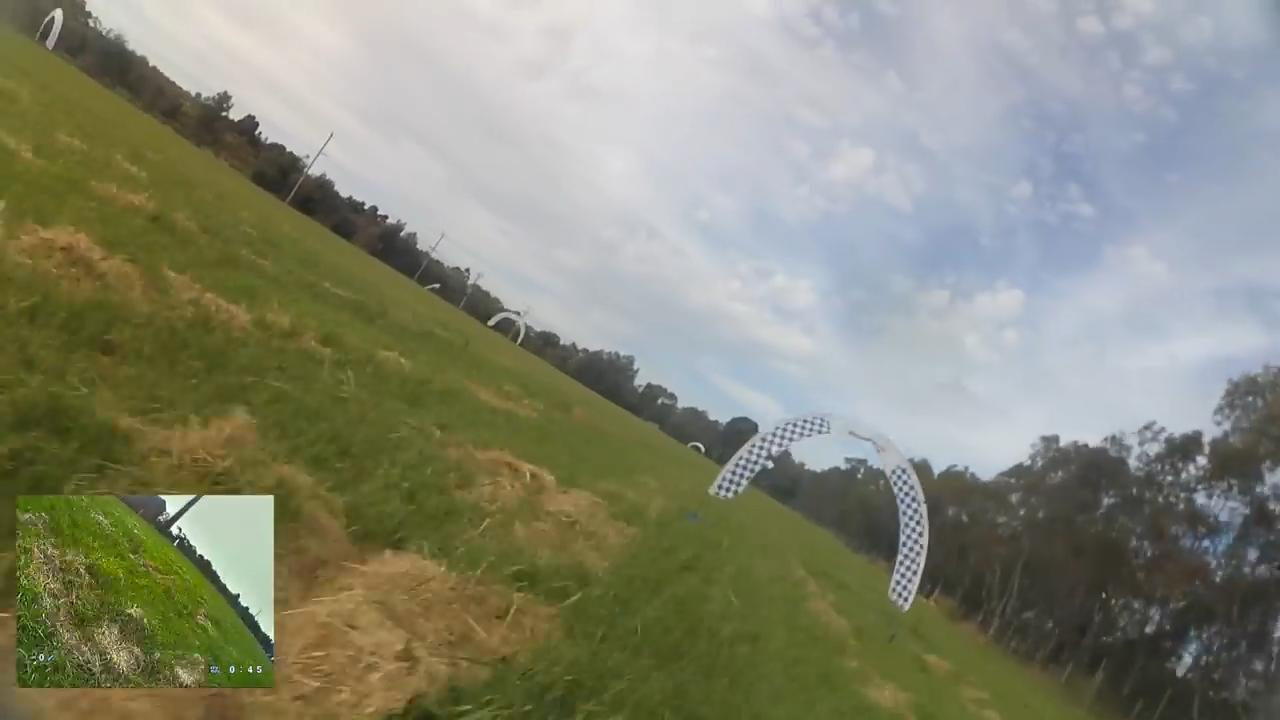gate: (708, 412, 930, 619), (486, 310, 528, 346)
